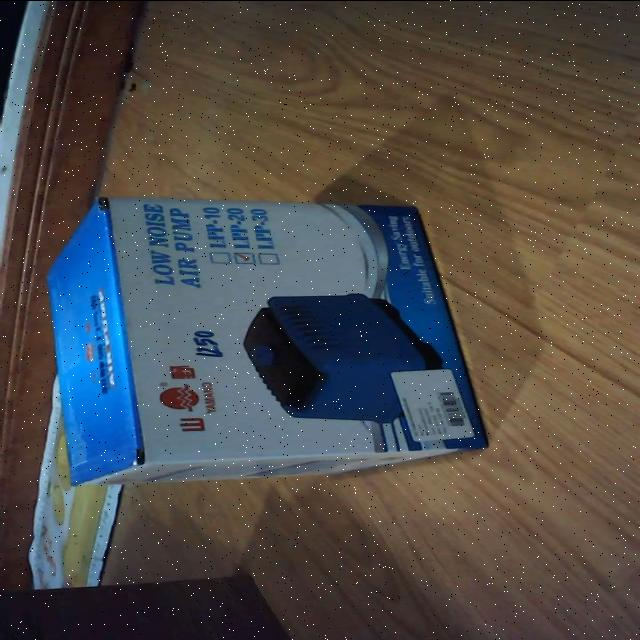YAMANO_LPP_20: (34, 182, 507, 493)
